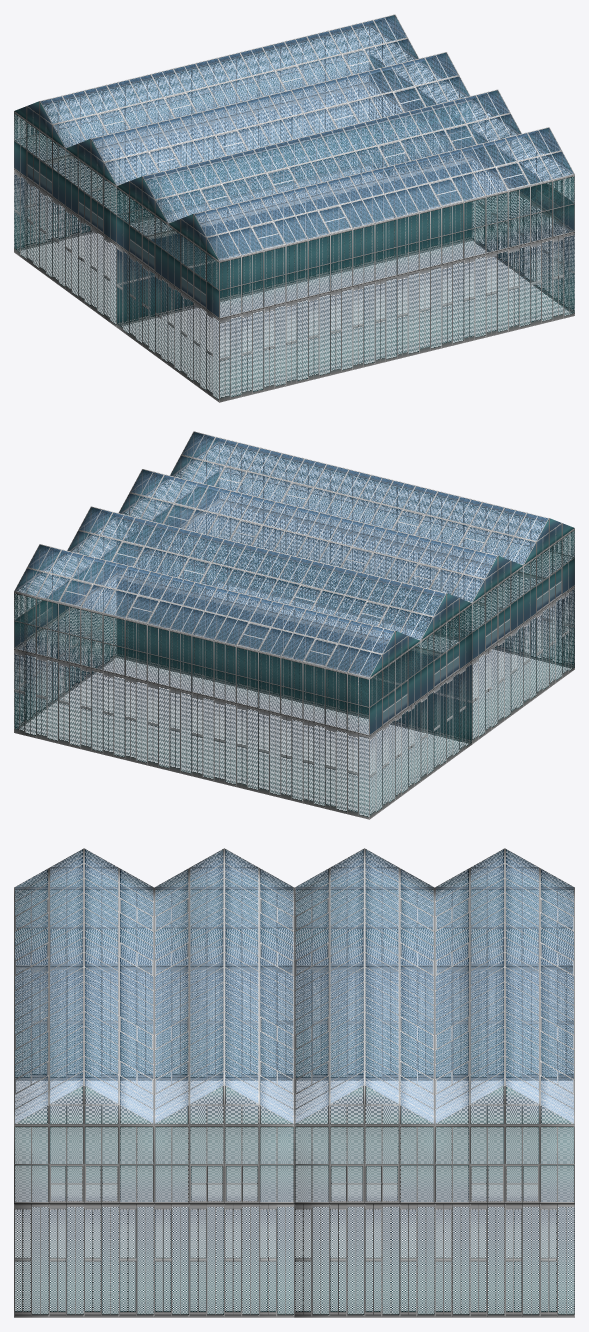
Rendered from kas_mod3_2a.fbx.
The picture shows the model from 3 angles, top to bottom: view 1: azimuth 30°, elevation 25°; view 2: azimuth 150°, elevation 25°; view 3: azimuth 270°, elevation 25°; orthographic projection. The views are drawn at different scales.
Visible parts, largest first — view 1: kas_mod3_2a; view 2: kas_mod3_2a; view 3: kas_mod3_2a.
Part boxes in pixels (<box>): kas_mod3_2a: <box>14,14,574,402</box>; kas_mod3_2a: <box>14,431,574,819</box>; kas_mod3_2a: <box>14,848,574,1317</box>.
Bounding box in the file's own units: 4000 × 1829 × 4000.
